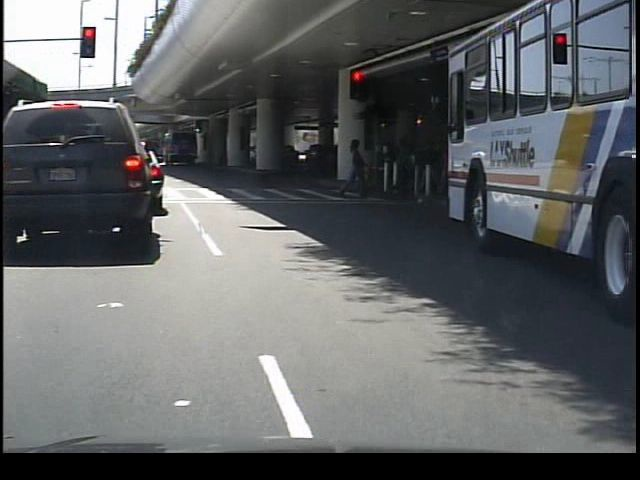person: (339, 136, 372, 202)
